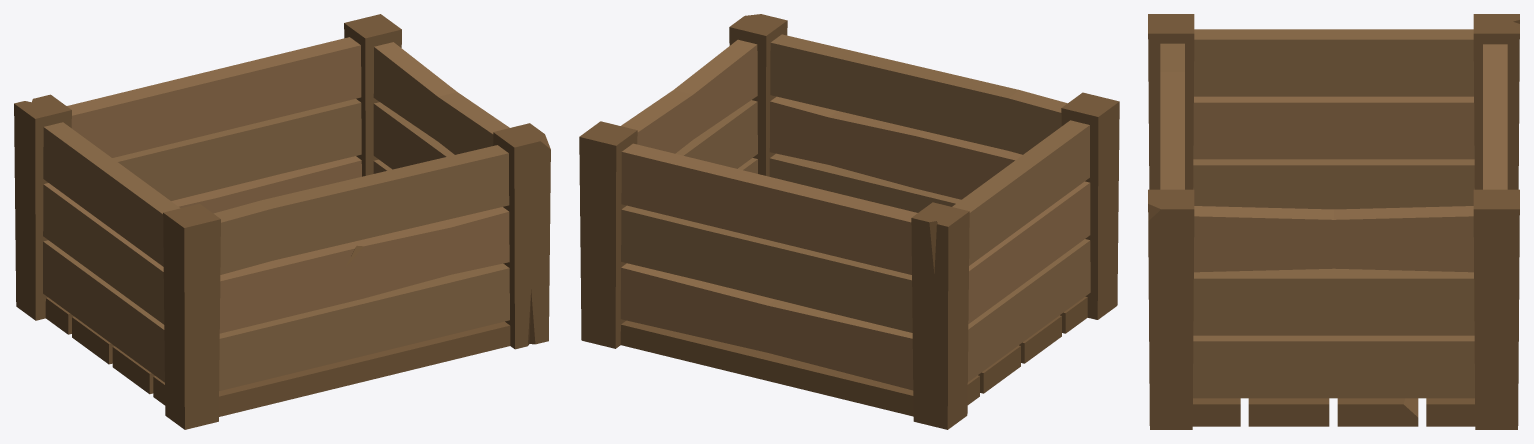
File: Mesh_Props_Box_02.FBX
The picture shows the model from 3 angles, left to right: view 1: azimuth 30°, elevation 25°; view 2: azimuth 150°, elevation 25°; view 3: azimuth 270°, elevation 25°; orthographic projection. The views are drawn at different scales.
Visible parts, largest first — view 1: Mesh_Props_Box_02; view 2: Mesh_Props_Box_02; view 3: Mesh_Props_Box_02.
Part boxes in pixels (<box>): Mesh_Props_Box_02: <box>14,14,550,429</box>; Mesh_Props_Box_02: <box>579,14,1119,429</box>; Mesh_Props_Box_02: <box>1148,14,1519,429</box>.
Size of the model in its own units: 26.22 by 13.85 by 21.08.
